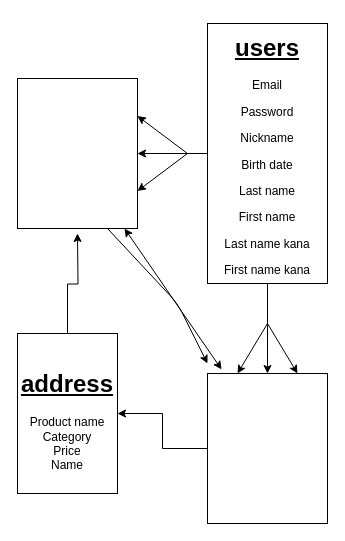
The diagram is 345 pixels wide and 541 high, and some of its shapes have lost their labels. Each missing label, with the box of its shape:
Listings Image Name Info Price Category Sales status: (206, 372, 328, 524)
Purchases Token Postal code prefecture City Address Phone number: (16, 78, 138, 228)
